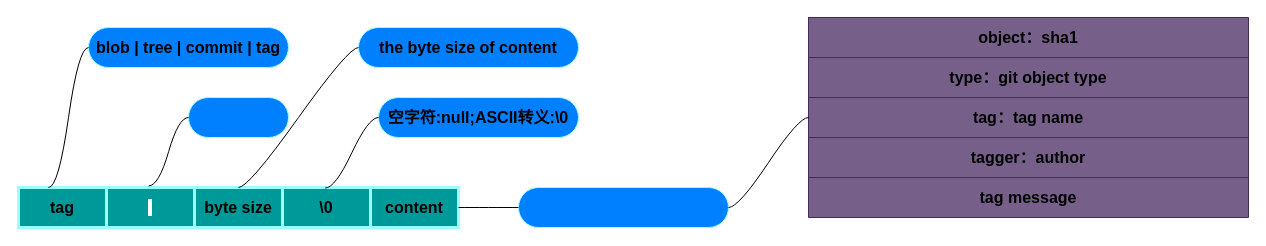
This 1266x246 diagram has some shape labels left out. Each missing label, with the box of its shape:
空格：: (188, 96, 288, 138)
经ZLib压缩之后的数据: (518, 186, 728, 228)
